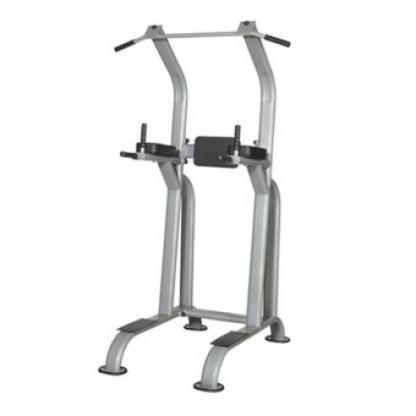chinning dipping: (98, 21, 292, 394)
